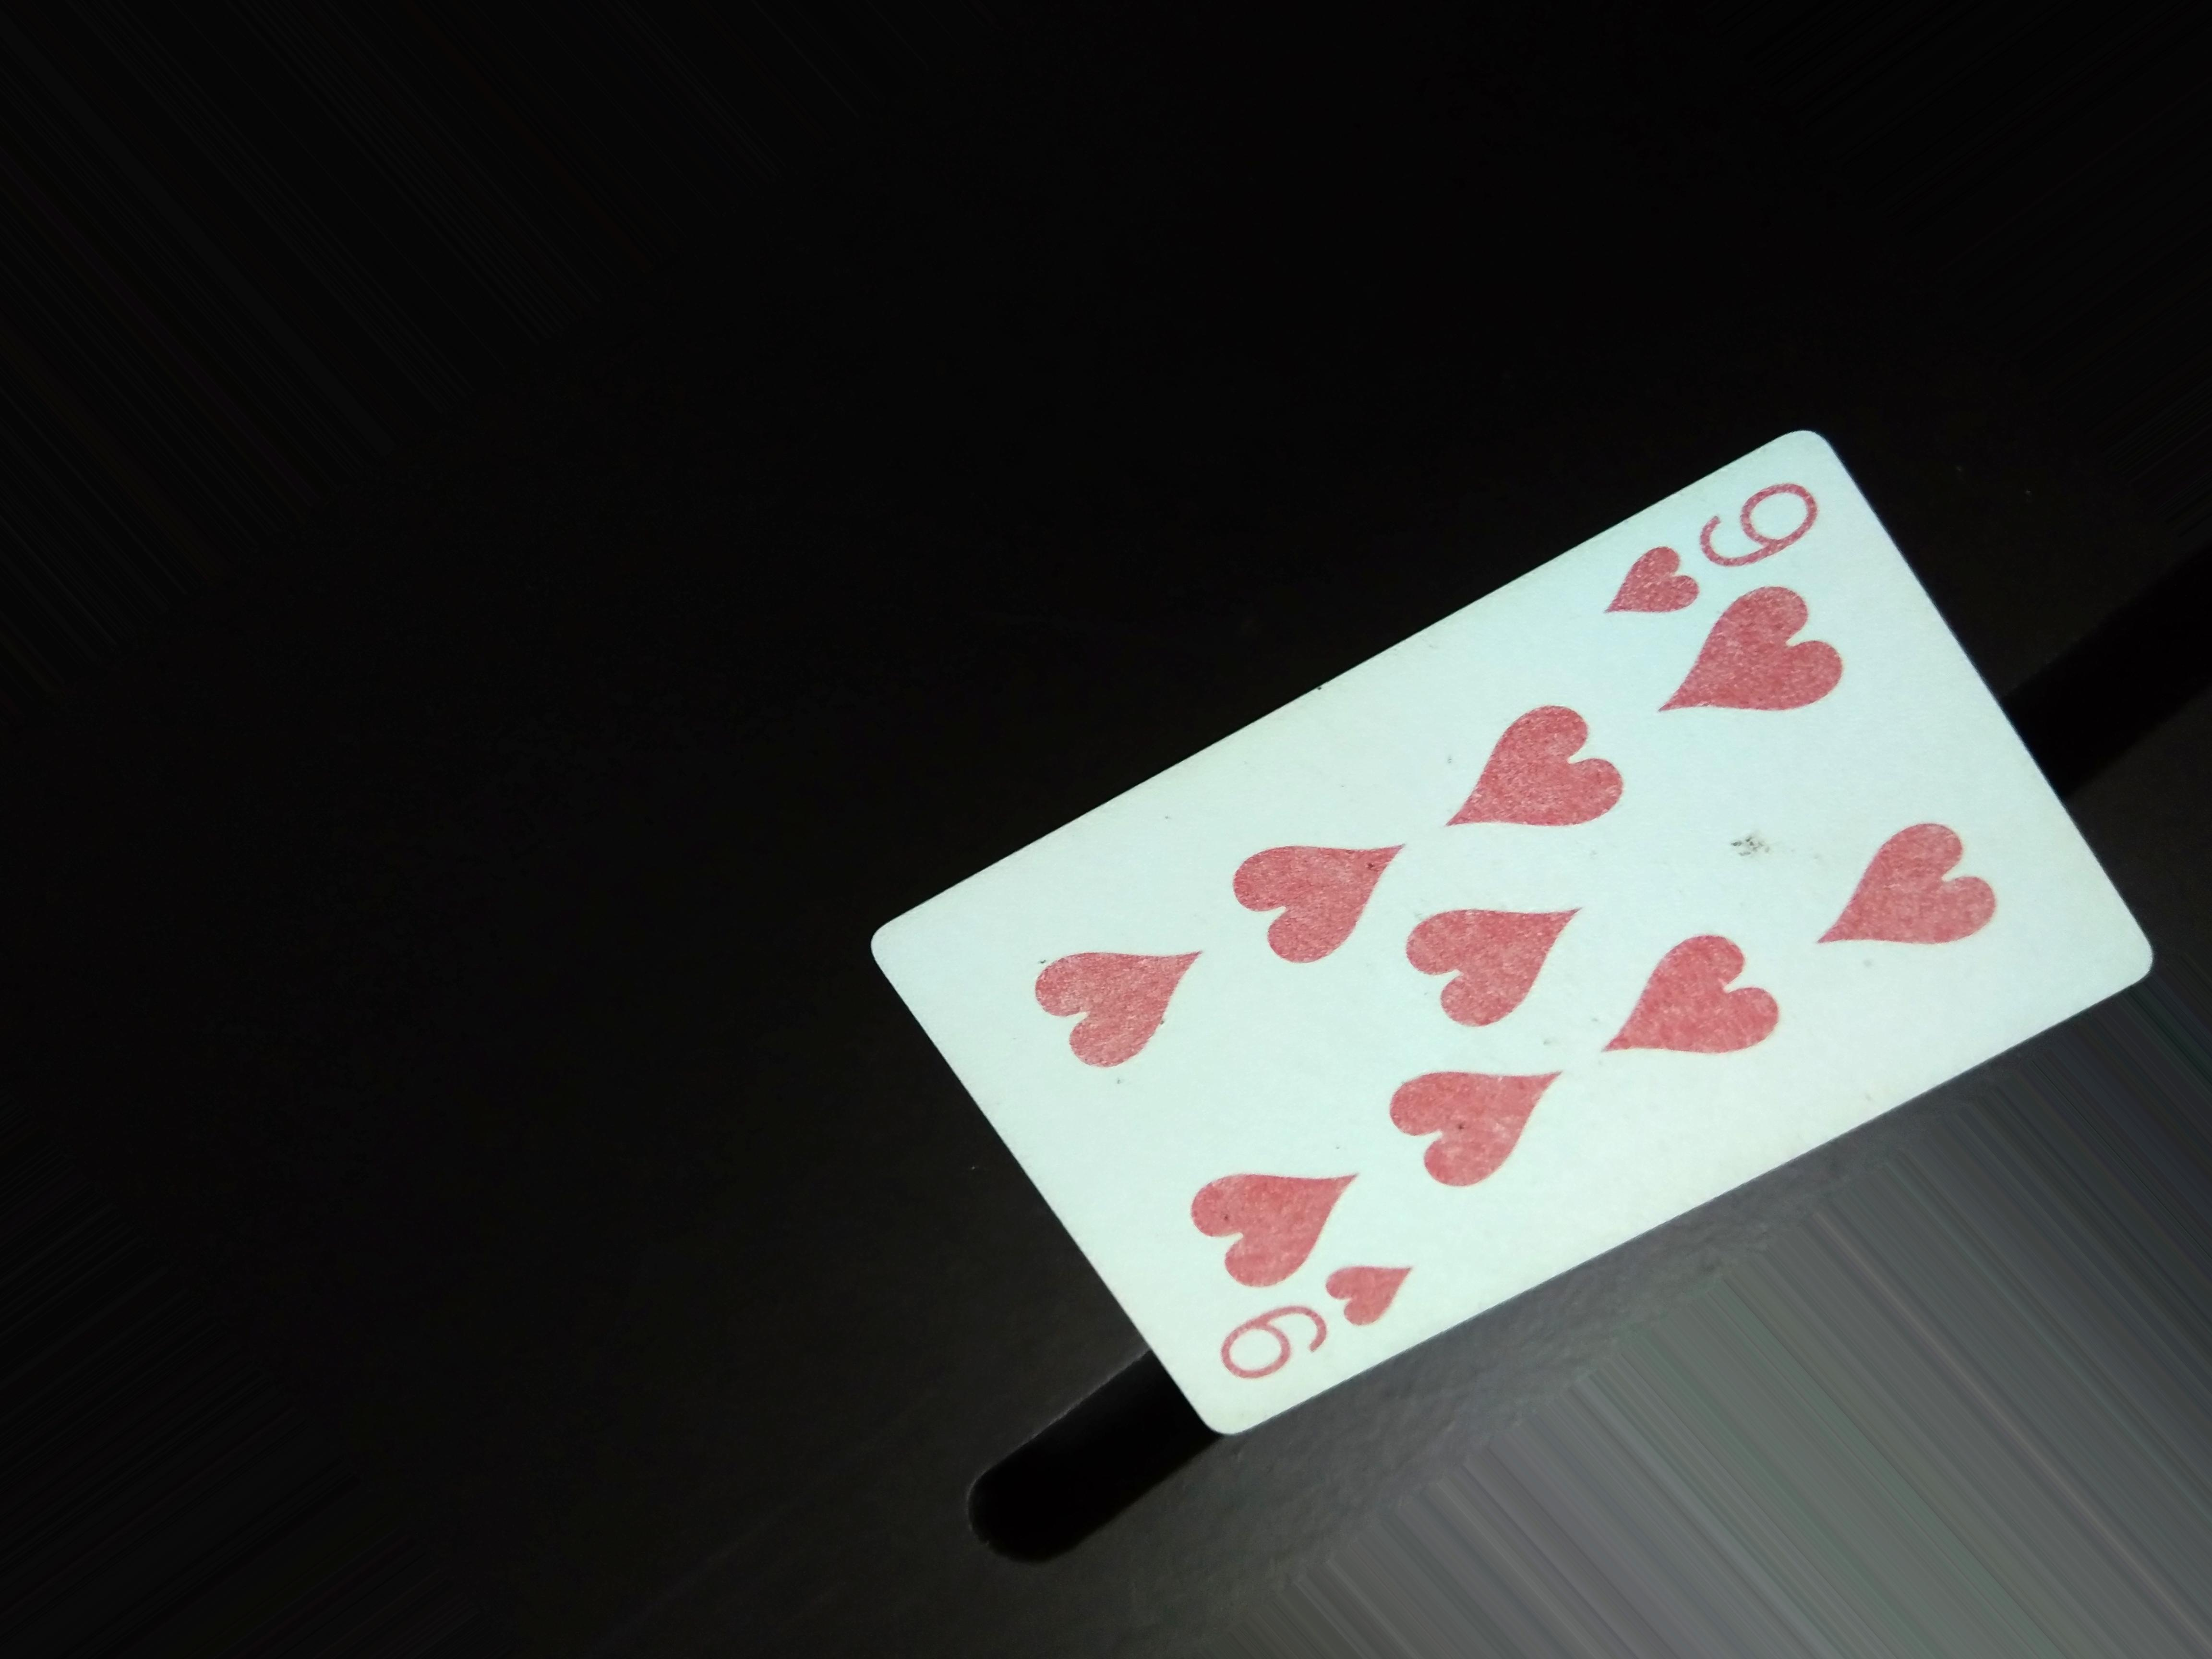9H: (1594, 439, 1815, 626)
